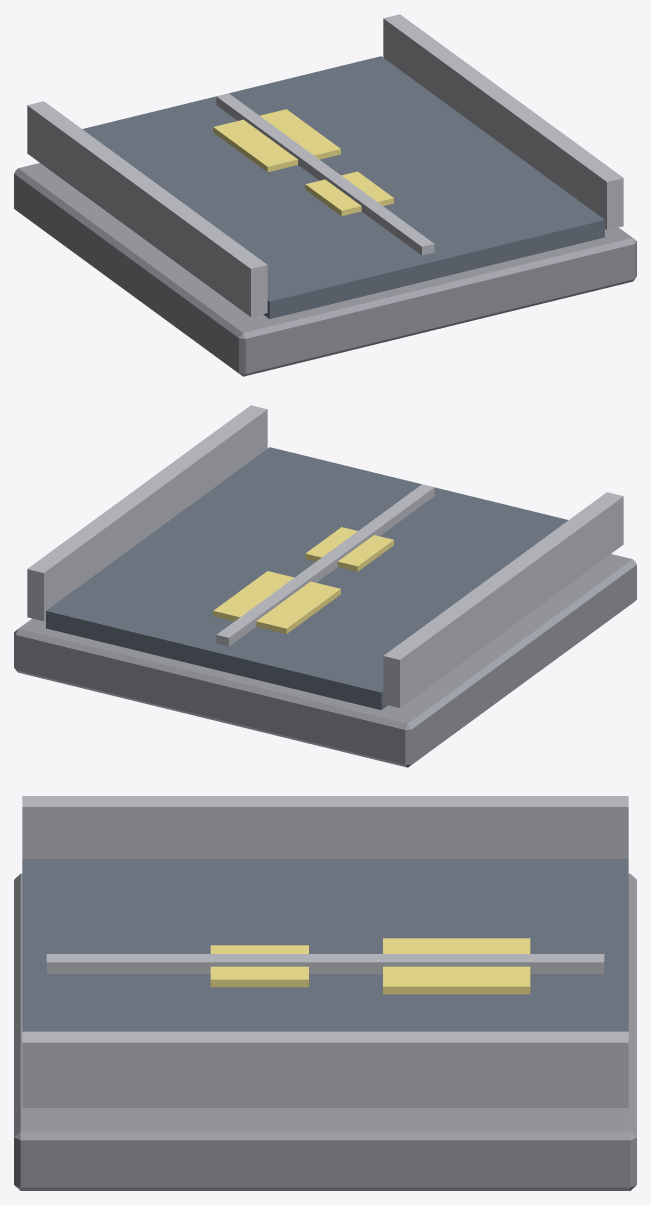
File: belt_mk1.glb
The picture shows the model from 3 angles, top to bottom: view 1: azimuth 30°, elevation 25°; view 2: azimuth 150°, elevation 25°; view 3: azimuth 270°, elevation 25°; orthographic projection. The views are drawn at different scales.
Visible parts, largest first — view 1: belt_mk1; view 2: belt_mk1; view 3: belt_mk1.
Part boxes in pixels (x1,y1,x2,y2): belt_mk1: (14,14,636,376); belt_mk1: (14,405,636,767); belt_mk1: (14,796,636,1190).
Bounding box in the file's own units: 1.9 × 0.48 × 1.9.
